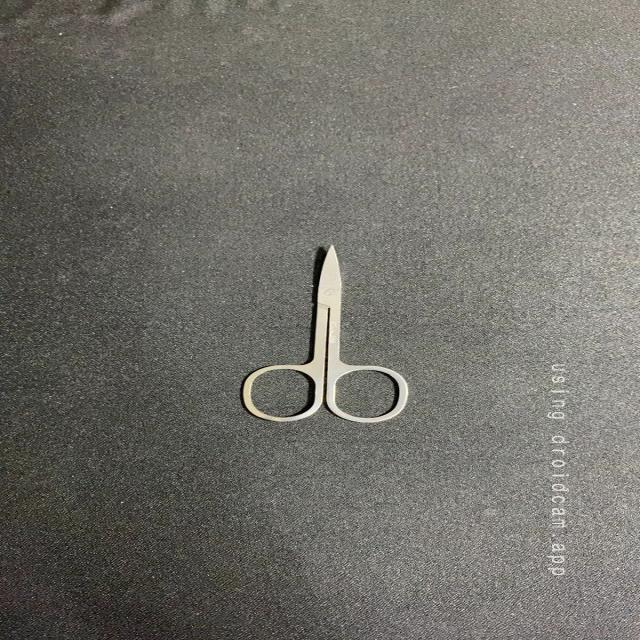scissor: (230, 238, 413, 427)
